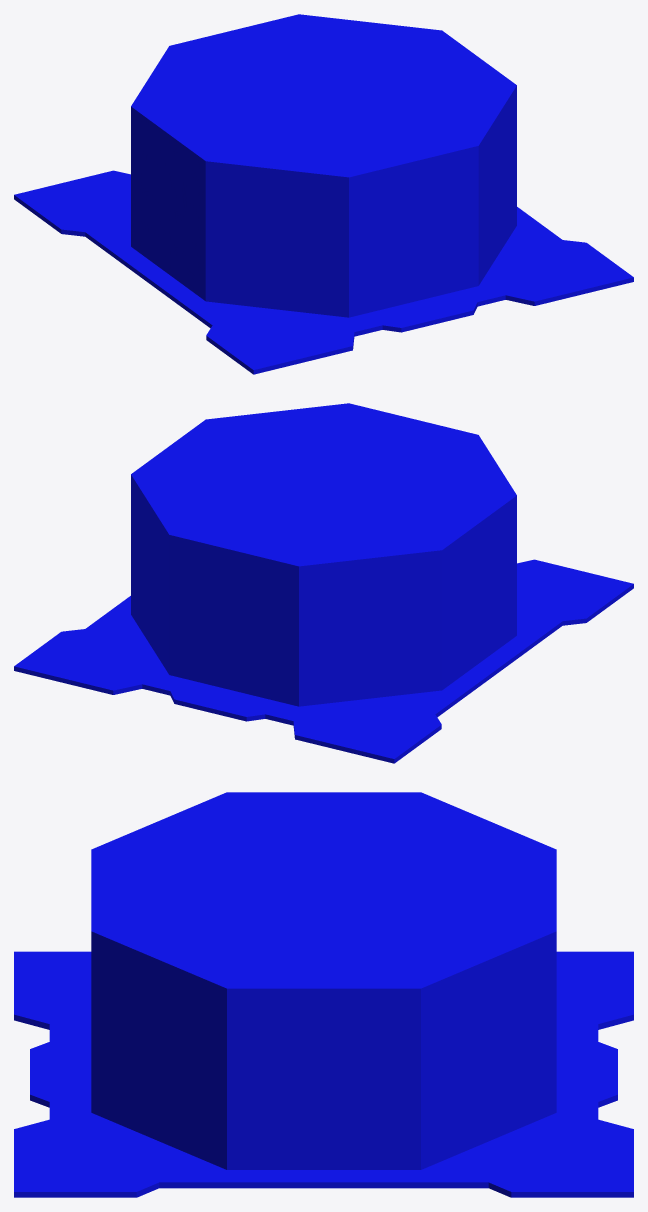
3 renders of one model, top to bottom at view 1: azimuth 30°, elevation 25°; view 2: azimuth 150°, elevation 25°; view 3: azimuth 270°, elevation 25°, orthographic. The views are drawn at different scales.
Parts seen in each view (by area): view 1: Base; view 2: Base; view 3: Base.
Boxes of the visible parts, x1=… form: Base: x1=14, y1=14, x2=633, y2=374; Base: x1=14, y1=403, x2=633, y2=763; Base: x1=14, y1=792, x2=633, y2=1197.
Size of the model in its own units: 5.5 by 2 by 6.
